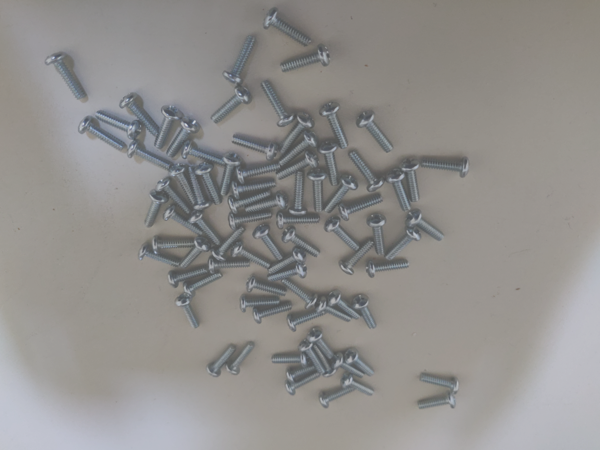shortscrew: (45, 52, 86, 100), (264, 8, 312, 48), (119, 92, 159, 136), (223, 35, 257, 86), (77, 115, 125, 150), (261, 80, 296, 128), (211, 85, 253, 124), (357, 110, 394, 153), (278, 112, 315, 154), (349, 150, 385, 193), (319, 101, 349, 149), (281, 45, 331, 73), (167, 117, 201, 158), (279, 131, 318, 166), (96, 111, 143, 140), (324, 175, 358, 215), (405, 209, 446, 242), (155, 178, 192, 214), (324, 217, 362, 252), (231, 134, 278, 162), (339, 239, 375, 275), (276, 151, 319, 181), (180, 139, 226, 167), (155, 104, 183, 149), (386, 226, 422, 261), (168, 164, 197, 206), (385, 168, 412, 213), (195, 161, 222, 206), (187, 165, 213, 211), (127, 141, 171, 168), (188, 211, 221, 247), (212, 226, 245, 262), (283, 227, 321, 258), (339, 195, 384, 221), (139, 242, 182, 269), (282, 277, 318, 309), (163, 207, 204, 235), (183, 272, 224, 300), (231, 241, 271, 269), (229, 189, 272, 215), (314, 295, 353, 323), (267, 247, 306, 275), (325, 290, 361, 320), (237, 161, 282, 185), (253, 225, 283, 261), (422, 156, 470, 178), (245, 190, 289, 214), (219, 152, 242, 197), (225, 342, 255, 375), (318, 140, 339, 187), (252, 301, 293, 325), (144, 190, 169, 229), (399, 158, 421, 202), (306, 169, 328, 213), (207, 345, 236, 378), (352, 295, 377, 331), (232, 180, 277, 200), (330, 352, 364, 378), (246, 275, 288, 296), (366, 214, 387, 256), (419, 373, 459, 395), (229, 211, 273, 231), (289, 172, 308, 217), (345, 348, 374, 377), (167, 268, 209, 288), (152, 236, 196, 255), (308, 328, 334, 360), (176, 293, 199, 329), (366, 260, 411, 278), (276, 212, 320, 230), (342, 373, 376, 396), (240, 294, 280, 313), (268, 264, 308, 283), (285, 374, 321, 395), (319, 388, 356, 408), (418, 393, 458, 410), (209, 259, 250, 275), (272, 353, 310, 368), (286, 367, 314, 383)
